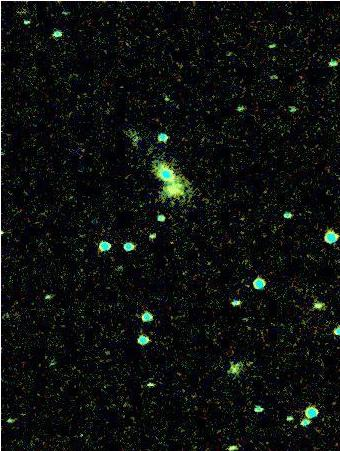star: (0, 217, 19, 247)
